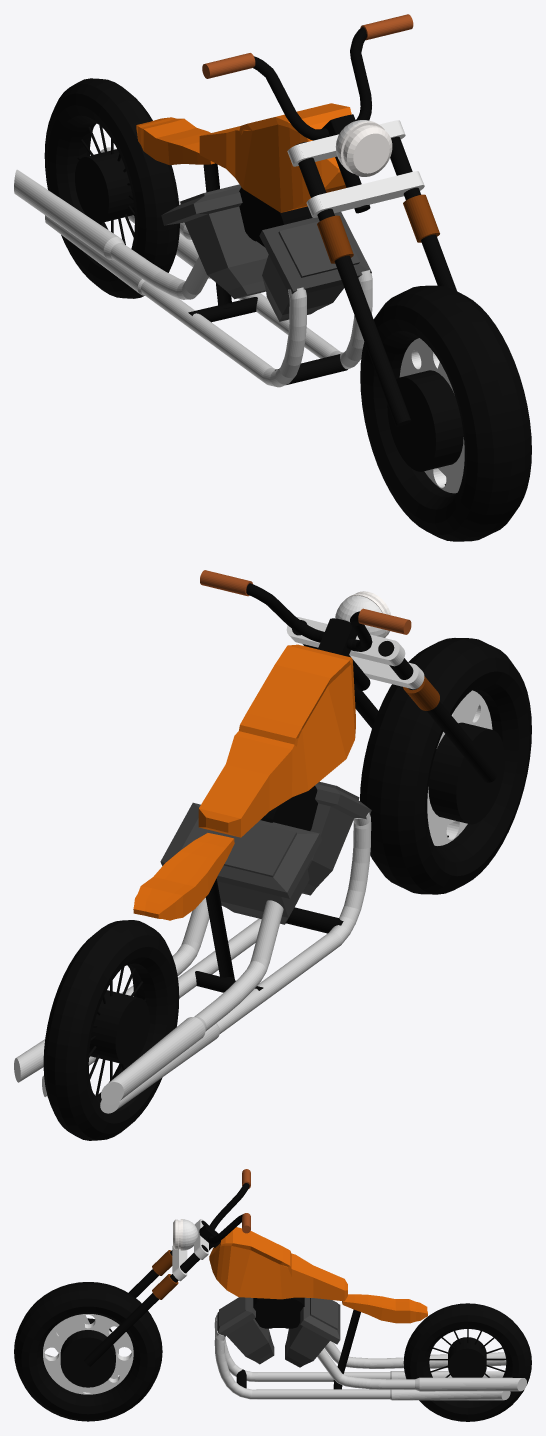
Rendered from motorcycle_1.fbx.
The picture shows the model from 3 angles, top to bottom: view 1: azimuth 30°, elevation 25°; view 2: azimuth 150°, elevation 25°; view 3: azimuth 270°, elevation 25°; orthographic projection. The views are drawn at different scales.
Parts seen in each view (by area): view 1: Cube.006, Torus, Cylinder.012, Cylinder.036; view 2: Cube.006, Torus, Cylinder.036, Cylinder.012; view 3: Cube.006, Torus, Cylinder.036, Cylinder.012.
Boxes of the visible parts, box(x1,y1,x2,y2) form: Cube.006: box(14, 103, 372, 387); Torus: box(360, 285, 531, 541); Cylinder.012: box(202, 14, 456, 426); Cylinder.036: box(44, 78, 179, 298); Cube.006: box(14, 644, 371, 1113); Torus: box(360, 638, 531, 894); Cylinder.036: box(43, 920, 179, 1140); Cylinder.012: box(200, 570, 497, 782); Cube.006: box(209, 1227, 526, 1400); Torus: box(14, 1282, 162, 1421); Cylinder.036: box(403, 1303, 531, 1421); Cylinder.012: box(84, 1169, 250, 1366).
Size of the model in its own units: 322 by 596 by 1250.
